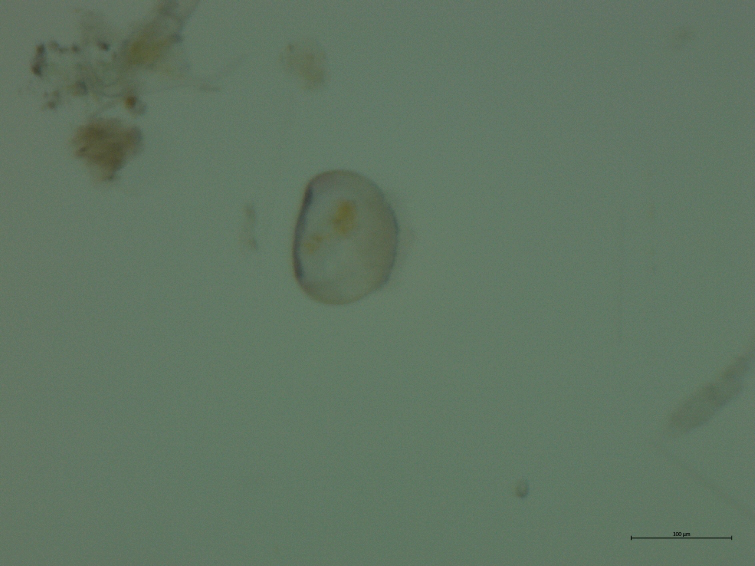oyster: (285, 162, 409, 318)
